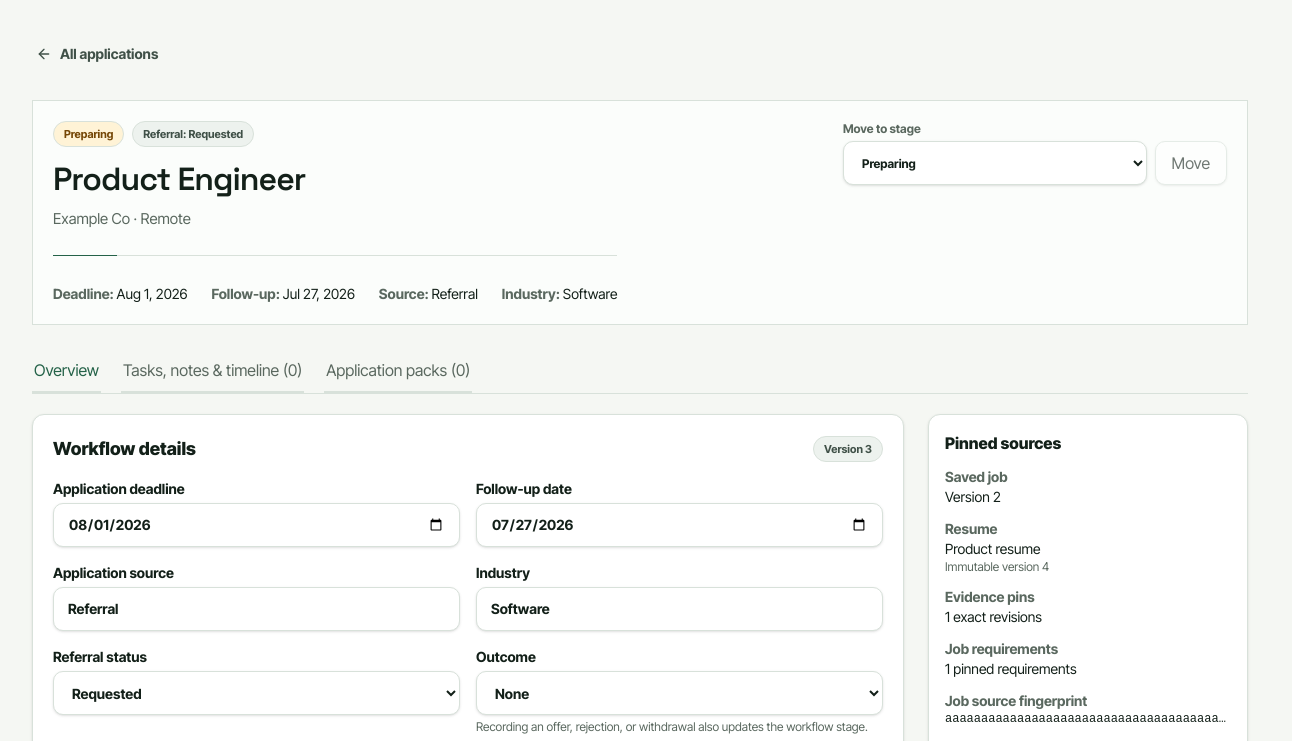
Test: Application detail workflow › loads bounded activity pages independently and can fetch more tasks
Check: the heading "Product Engineer" is shown, box [53,159,305,199]
Click the tab "Tasks, notes & timeline (0)".
click(213, 371)  # box [121,349,304,393]
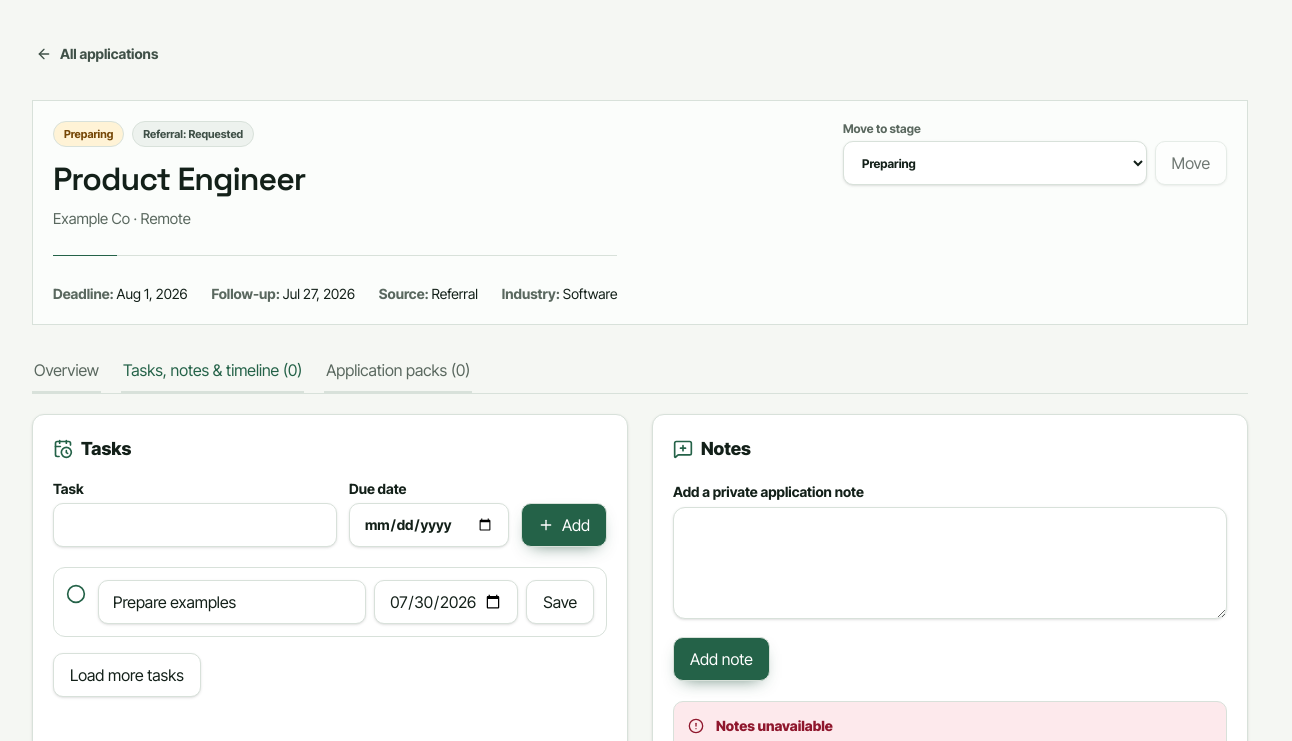
Check: the field showing "Prepare examples" is shown, box [98,580,366,624]
Check: the text "Notes unavailable" is shown, box [716,717,833,734]
Click the button "Load more tasks".
click(127, 675)  # box [53,653,201,697]
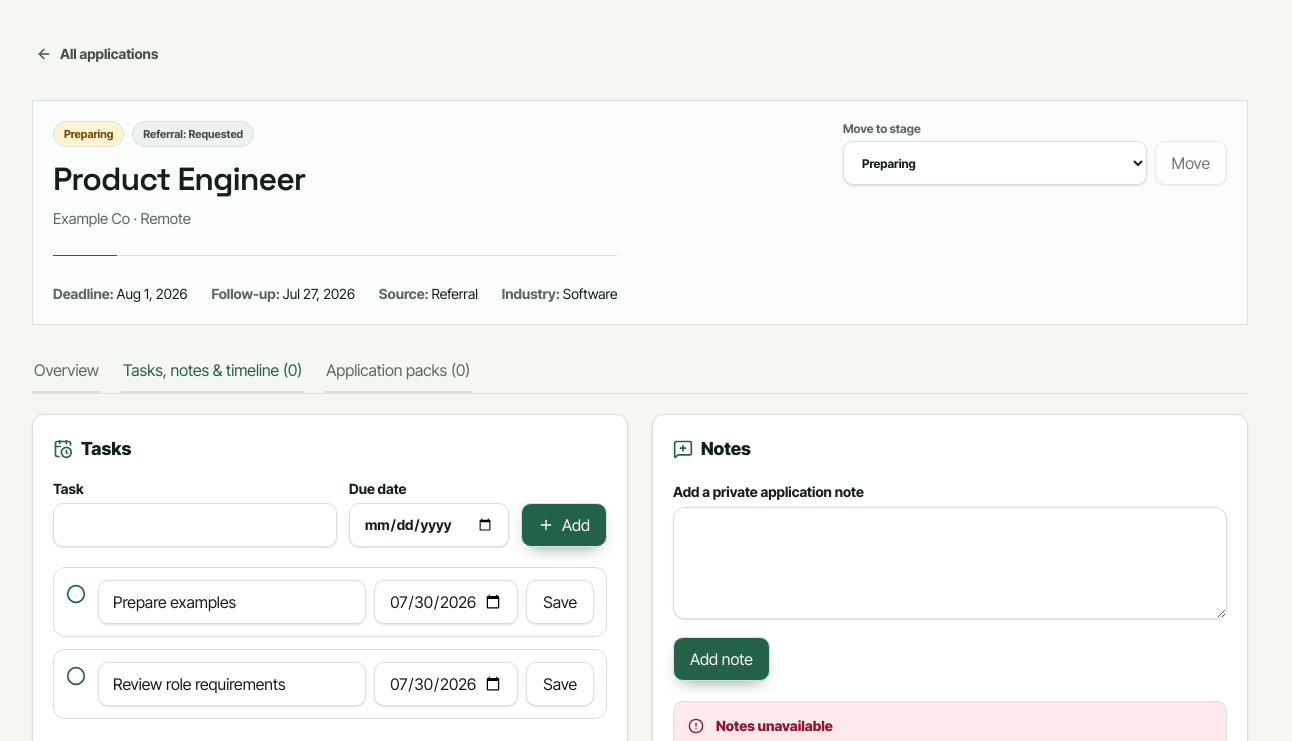
Check: the 2nd field showing "Review role requirements" is shown, box [98,662,366,706]
